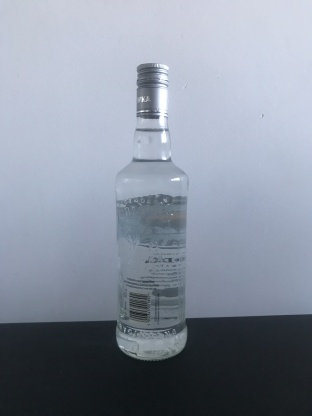nakretka: (135, 60, 170, 121)
